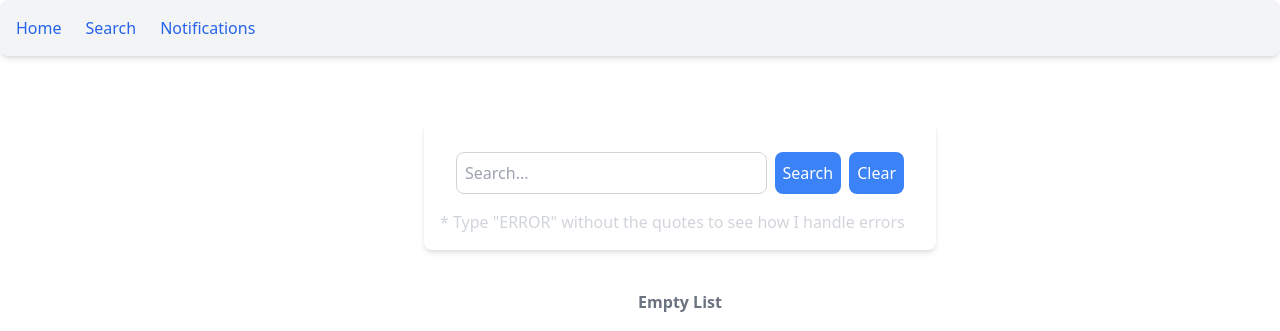
Test: Component rendering states › search and clear
The width and height of the screenshot is (1280, 331).
Type "apple" into the field with test id "search-input". click: coordinates (611, 173)
box: [456, 152, 766, 194]
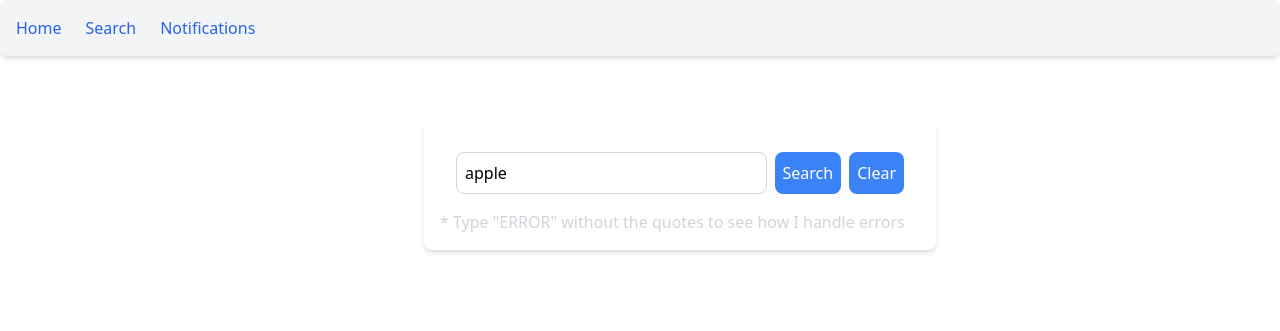
Click the button with test id "clear-button". click: coordinates (877, 173)
box: [849, 152, 904, 194]
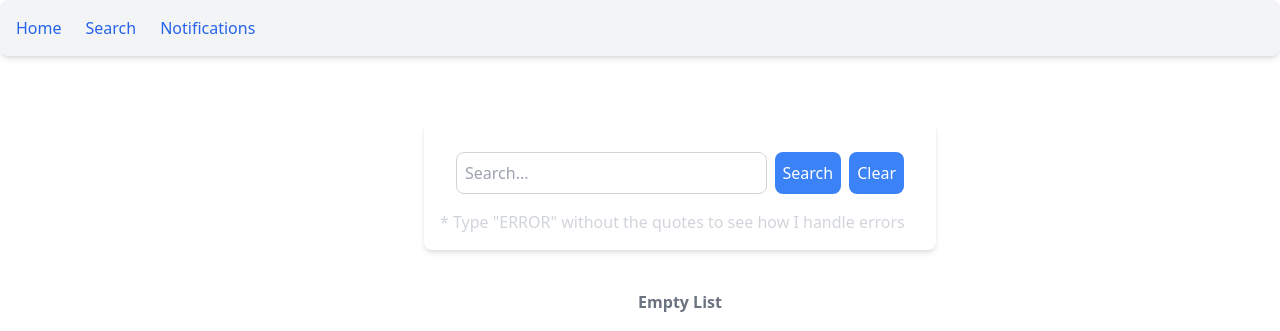
Result: the heading "Empty List" is shown at [638, 290, 722, 314]
